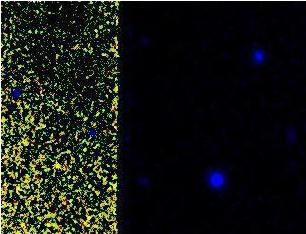star: (40, 149, 70, 179)
